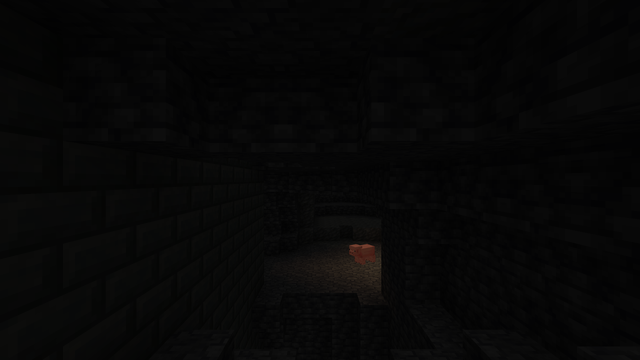cochons: (355, 243, 373, 263)
